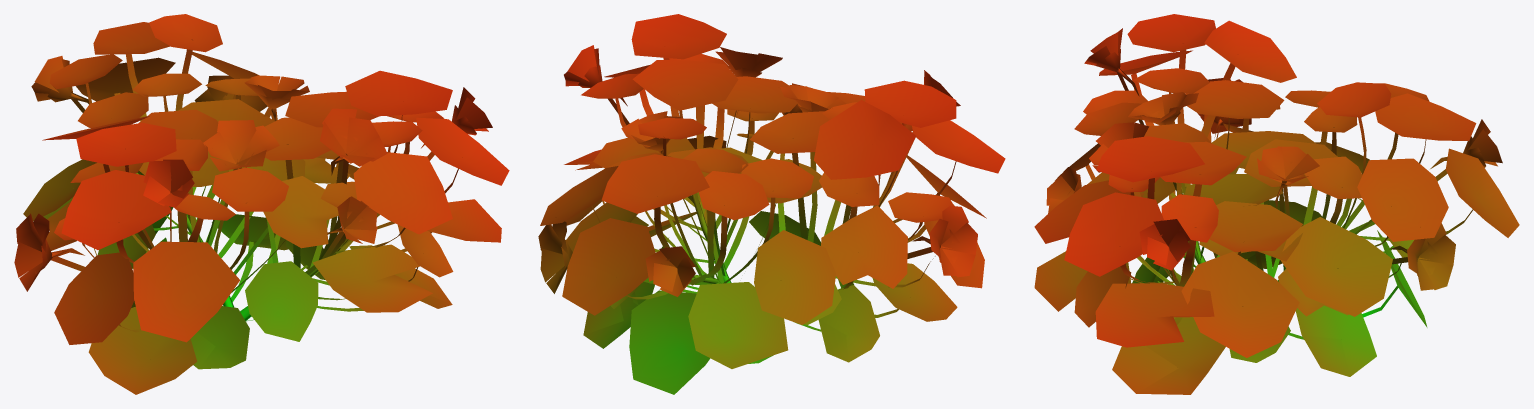
File: Planta_1_rasteira.fbx
The picture shows the model from 3 angles, left to right: view 1: azimuth 30°, elevation 25°; view 2: azimuth 150°, elevation 25°; view 3: azimuth 270°, elevation 25°; orthographic projection. The views are drawn at different scales.
Visible parts, largest first — view 1: _9011_Var1_LOD0; view 2: _9011_Var1_LOD0; view 3: _9011_Var1_LOD0.
Part boxes in pixels (box(x1,y1,x2,y2)): _9011_Var1_LOD0: box(14, 14, 509, 394); _9011_Var1_LOD0: box(538, 14, 1005, 394); _9011_Var1_LOD0: box(1034, 14, 1519, 394).
Bounding box in the file's own units: 43.84 × 23.99 × 43.19.
